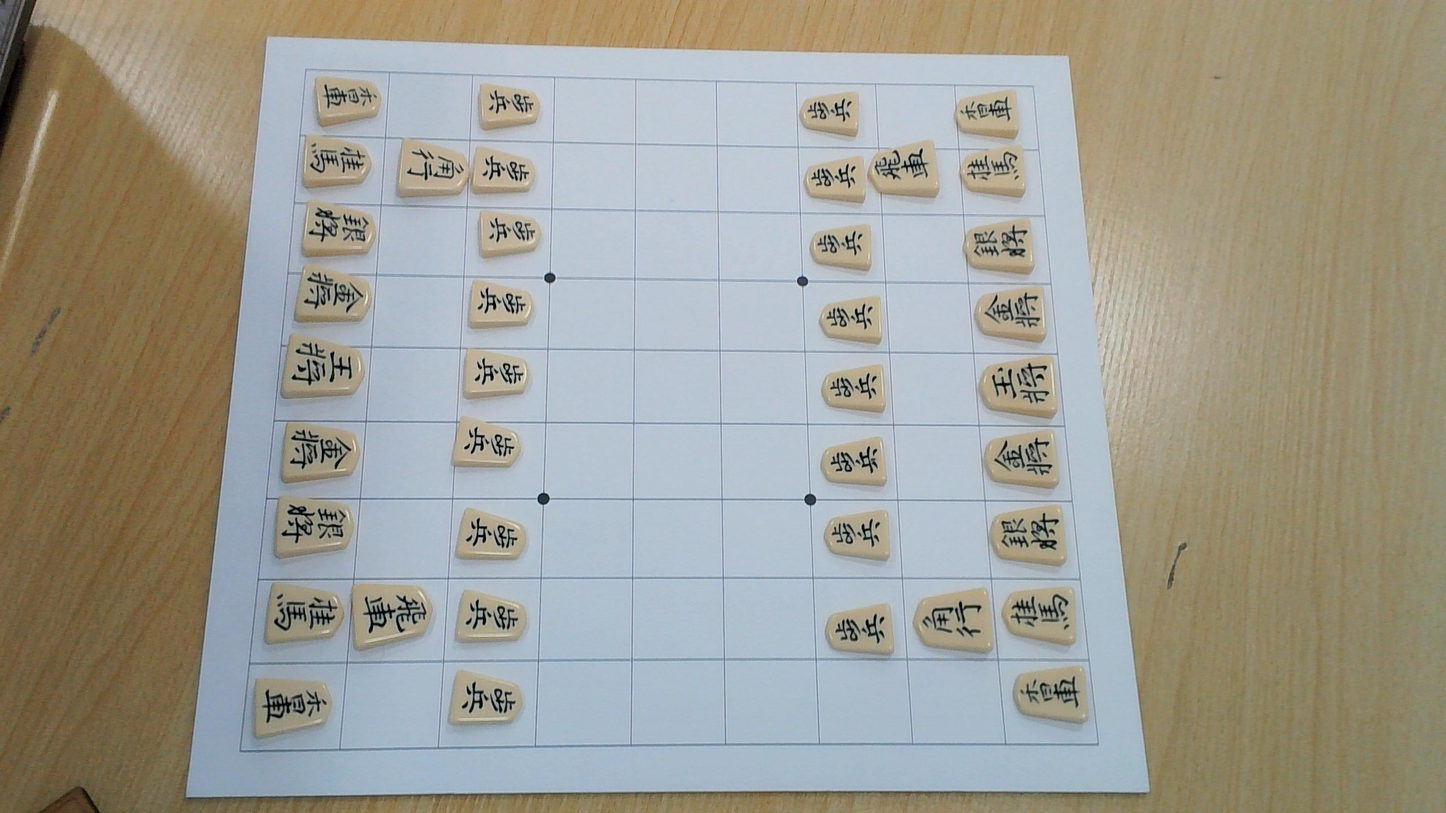board: (240, 69, 1098, 750)
